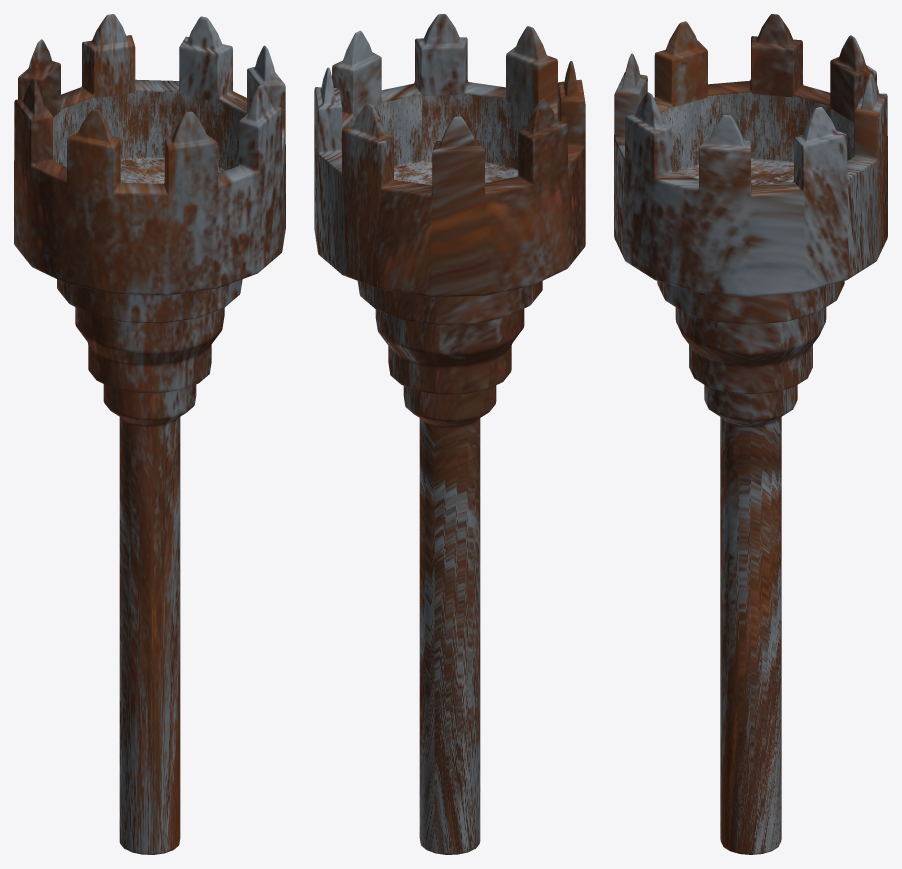
Rendered from Torch.fbx.
3 views of the same model, side by side, from view 1: azimuth 30°, elevation 25°; view 2: azimuth 150°, elevation 25°; view 3: azimuth 270°, elevation 25° (orthographic).
Visible parts, largest first — view 1: Cylinder; view 2: Cylinder; view 3: Cylinder.
Part boxes in pixels (left/top/right/bottom): Cylinder: left=14, top=14, right=285, bottom=854; Cylinder: left=314, top=14, right=585, bottom=854; Cylinder: left=614, top=14, right=887, bottom=854.
Size of the model in its own units: 17.82 by 55.89 by 17.82.
